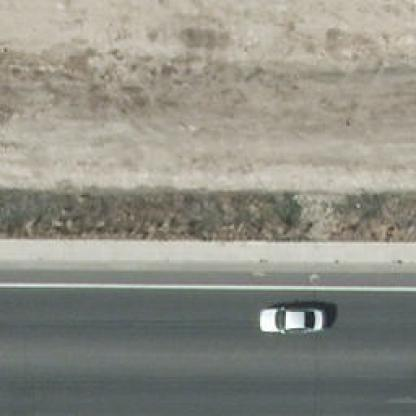car: (256, 306, 326, 332)
